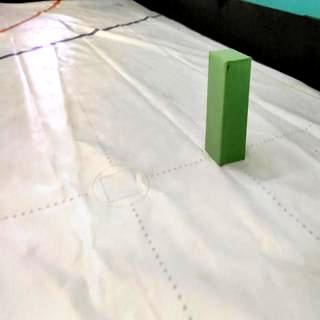greenbox: (204, 49, 250, 165)
